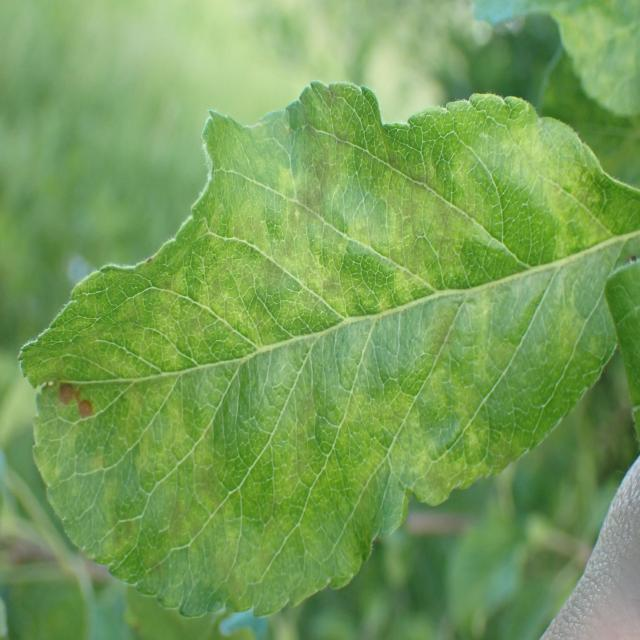scab: (30, 119, 612, 582)
